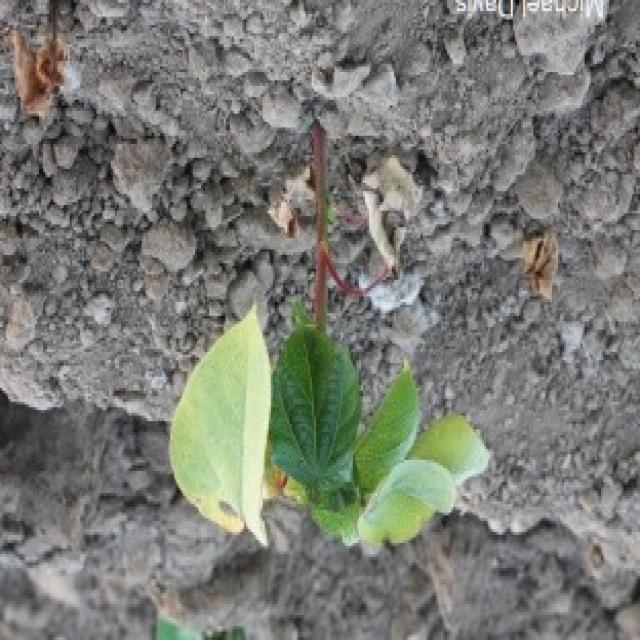Fusarium Wilt: (175, 97, 471, 584)
